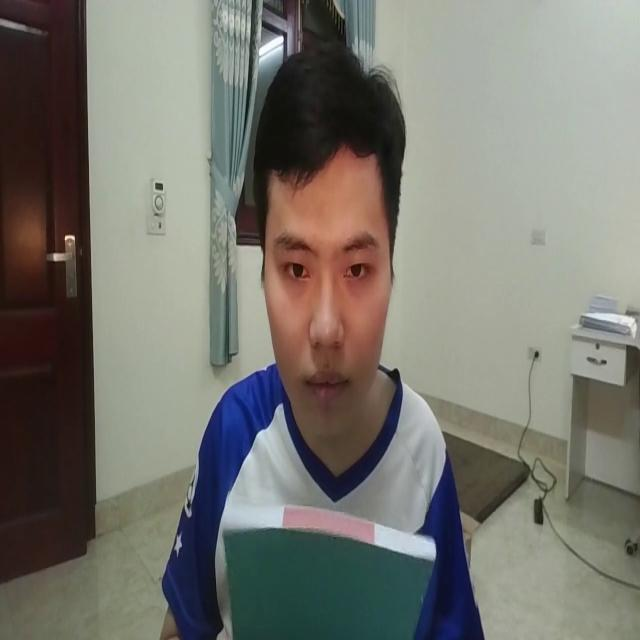book: (203, 466, 438, 640)
student: (140, 37, 482, 640)
